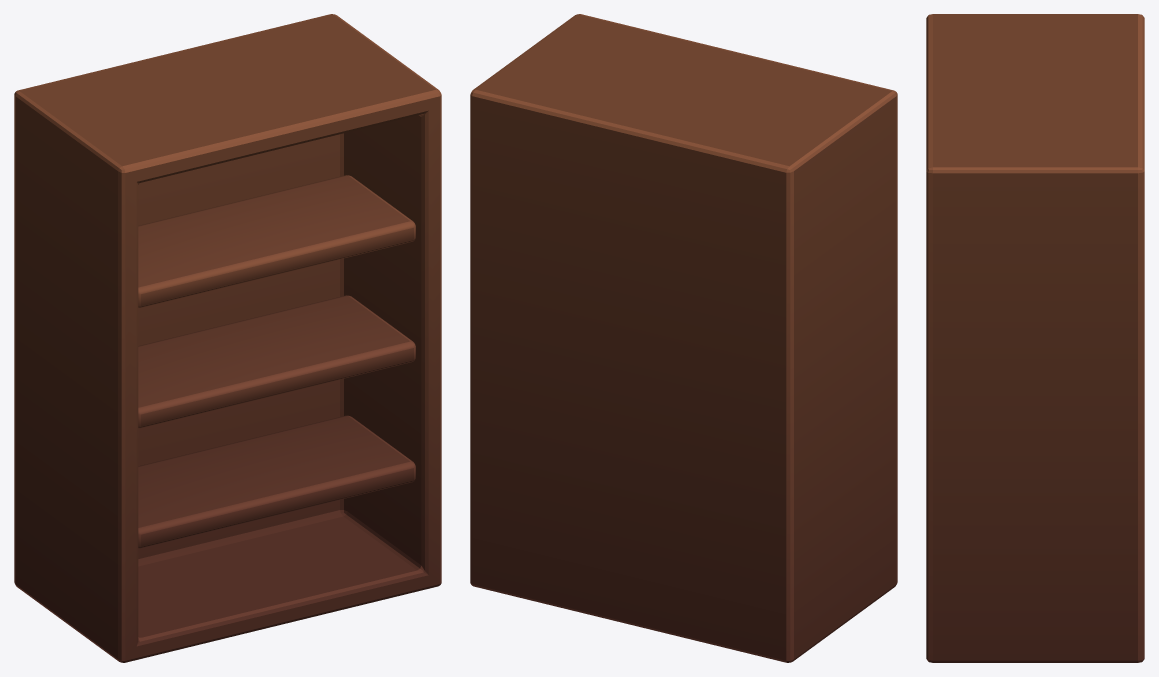
3 renders of one model, left to right at view 1: azimuth 30°, elevation 25°; view 2: azimuth 150°, elevation 25°; view 3: azimuth 270°, elevation 25°, orthographic.
Visible parts, largest first — view 1: box; view 2: box; view 3: box.
Part boxes in pixels (x1,y1,x2,y2): box: [14, 14, 441, 662]; box: [470, 14, 897, 662]; box: [926, 14, 1144, 662].
Bounding box in the file's own units: 340 × 500 × 200.
